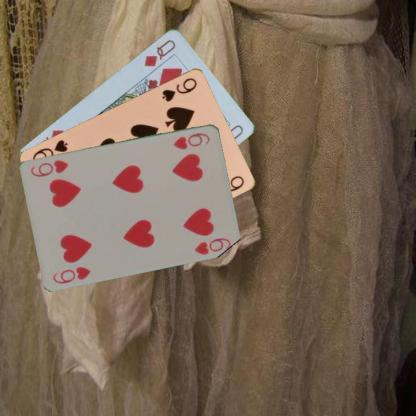6h: (50, 263, 92, 285), (170, 130, 212, 151)
9s: (159, 74, 199, 103)
Qd: (141, 36, 177, 68)
